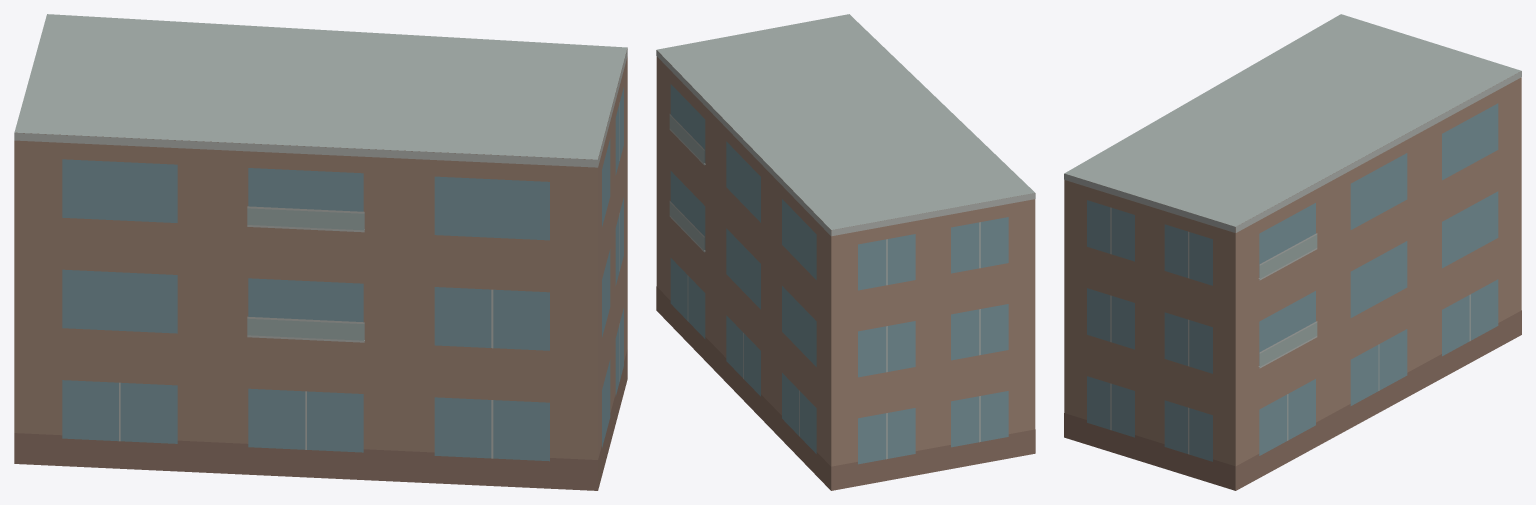
Rendered from survey-upis-32621425.glb.
3 views of the same model, side by side, from view 1: azimuth 30°, elevation 25°; view 2: azimuth 150°, elevation 25°; view 3: azimuth 270°, elevation 25° (orthographic). The views are drawn at different scales.
Parts seen in each view (by area): view 1: survey-upis-32621425.tmp; view 2: survey-upis-32621425.tmp; view 3: survey-upis-32621425.tmp.
Boxes of the visible parts, <box> form: survey-upis-32621425.tmp: <box>14,14,627,490</box>; survey-upis-32621425.tmp: <box>656,14,1035,490</box>; survey-upis-32621425.tmp: <box>1064,14,1521,490</box>.
Size of the model in its own units: 17.65 by 10.2 by 16.03.
